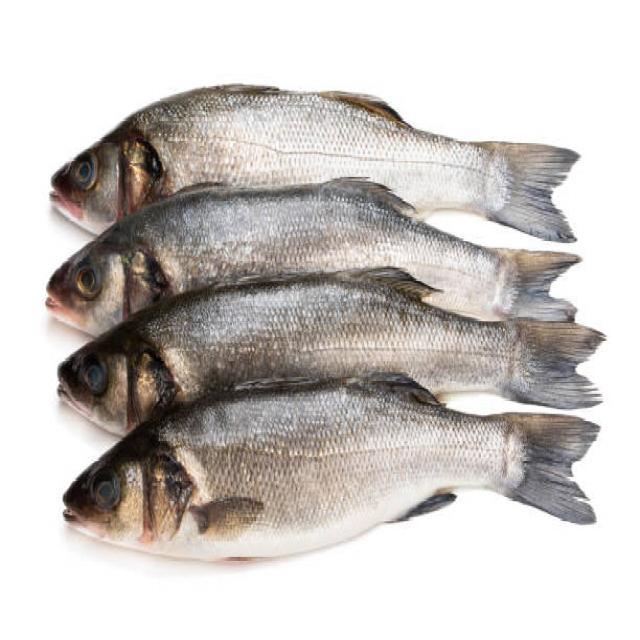Healthy Fish: (44, 82, 606, 565)
